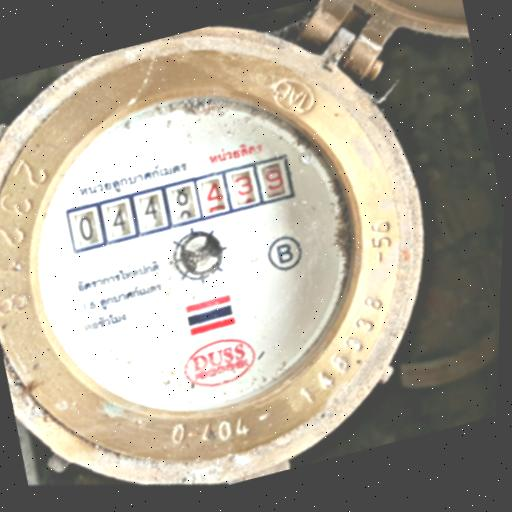0: (74, 211, 100, 246)
3: (230, 169, 257, 207)
4: (105, 202, 134, 239), (200, 178, 228, 216), (138, 194, 165, 230)
8: (171, 185, 197, 221)
9: (260, 163, 287, 198)
border_water_meter_number: (63, 152, 298, 255)
